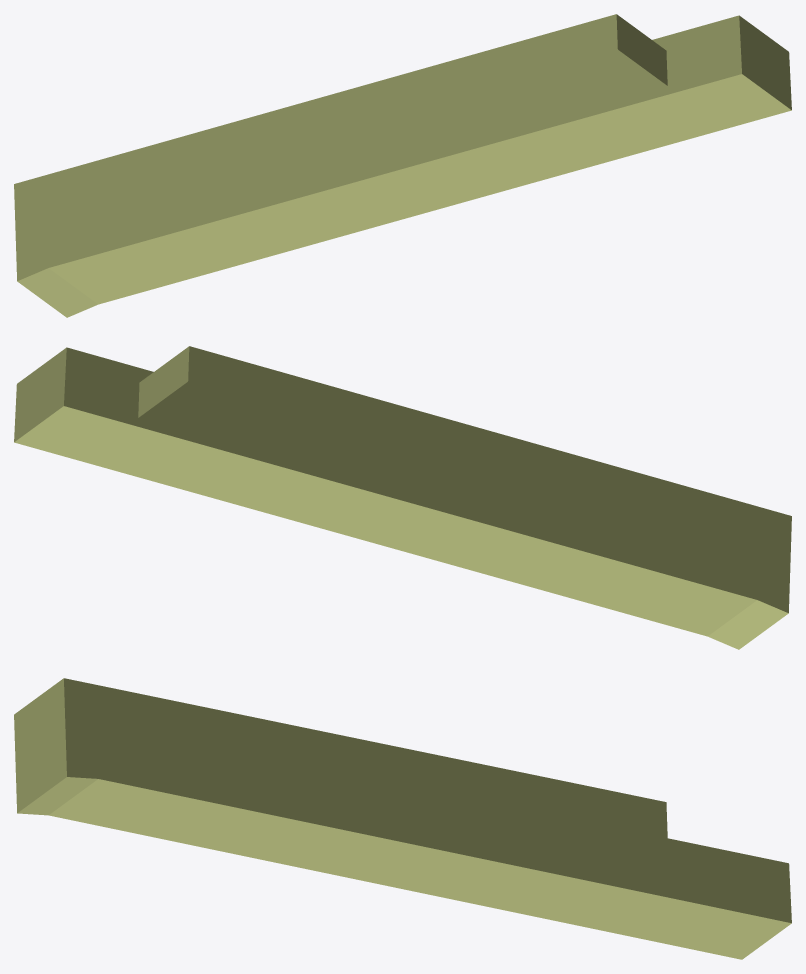
3 views of the same model, one above another, from view 1: azimuth 30°, elevation 25°; view 2: azimuth 150°, elevation 25°; view 3: azimuth 330°, elevation 25° (orthographic).
Parts seen in each view (by area): view 1: 0_3_2_0_3; view 2: 0_3_2_0_3; view 3: 0_3_2_0_3.
Part boxes in pixels (x1,y1,x2,y2): 0_3_2_0_3: [14, 14, 791, 317]; 0_3_2_0_3: [14, 346, 791, 649]; 0_3_2_0_3: [14, 678, 791, 959].
Size of the model in its own units: 75.84 by 12.05 by 9.
